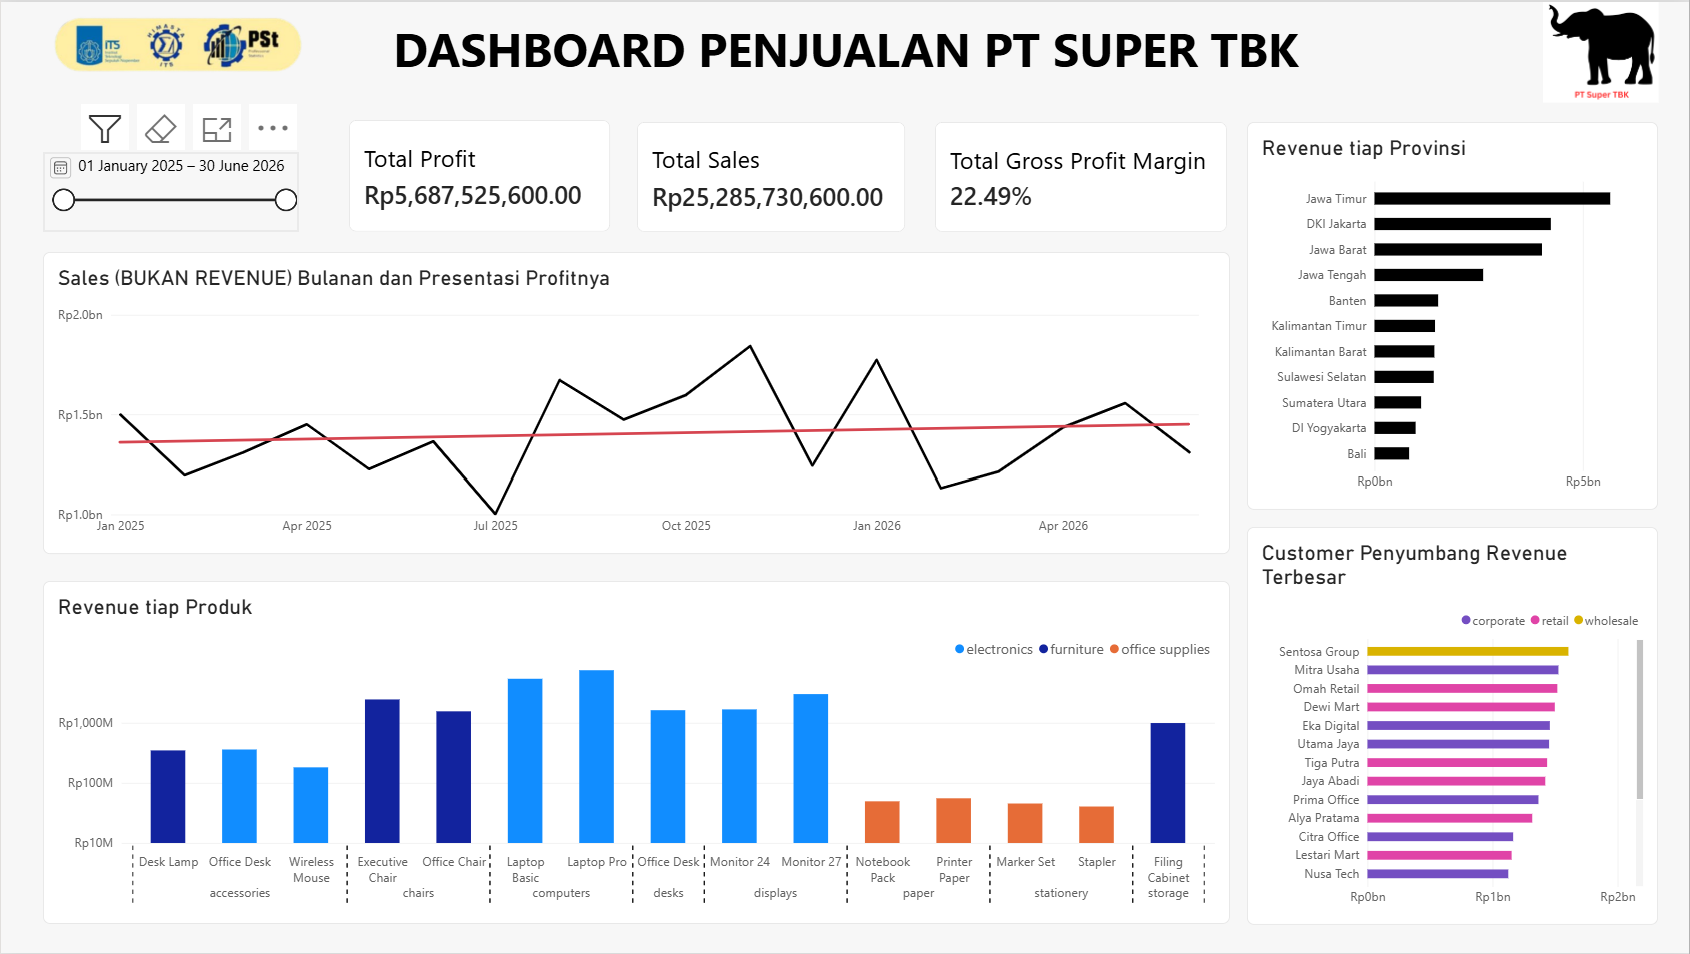

Layout of this report page (visuals, bound fields, positions):
{"tool":"powerbi","page":{"name":"Main Page","canvas":[1920,1080],"ordinal":0},"visuals":[{"type":"cardVisual","fields":{"Data":["sales_all.Profit Margin"]},"box":[1062.5,137.5,332.5,125],"z":0},{"type":"cardVisual","fields":{"Data":["sales_all.Total Sales"]},"box":[722.5,137.5,305,125],"z":1000},{"type":"lineChart","title":"Revenue Bulanan dan Presentasi Profitnya","fields":{"Category":["DateTable.Date.Variation.Date Hierarchy.Year","DateTable.Date.Variation.Date Hierarchy.Month"],"Y":["Sum(sales_all.Sales_Amount)"]},"box":[47.5,285,1350,342.5],"z":2000},{"type":"clusteredBarChart","title":"Revenue tiap Provinsi","fields":{"Category":["Customers_Raw.Provinsi"],"Y":["Sum(sales_all.Sales_Amount)"]},"box":[1417.5,137.5,467.5,440],"z":3000},{"type":"cardVisual","fields":{"Data":["sales_all.Total Profit"]},"box":[395,135,297.5,127.5],"z":4000},{"type":"slicer","fields":{"Values":["DateTable.Date"]},"box":[47.5,170,292.5,92.5],"z":5000},{"type":"columnChart","title":"Revenue tiap Produk","fields":{"Category":["products_raw.Subcategory","products_raw.Product_Name"],"Series":["products_raw.Category"],"Y":["Sum(sales_all.Sales_Amount)"]},"box":[47.5,655,1350,390],"z":6000},{"type":"textbox","box":[415,15,1094,84],"z":7000},{"type":"barChart","title":"Customer Penyumbang Revenue Terbesar","fields":{"Category":["Customers_Raw.Customer_Name"],"Series":["Customers_Raw.Segment"],"Y":["Sum(sales_all.Sales_Amount)"]},"box":[1417.5,595,467.5,452.5],"z":8000},{"type":"image","box":[1754.3,0,131.4,114.3],"z":9000},{"type":"image","box":[47.5,0,300,100],"z":10000}]}

Visuals, with their boxes in screenshot pixels (x1, y1, x2, y2), scaled from the page's 1920x1080 canvas onto the 1690x954 screenshot:
cardVisual - sales_all.Profit Margin: {"left": 935, "top": 121, "right": 1228, "bottom": 232}
cardVisual - sales_all.Total Sales: {"left": 636, "top": 121, "right": 904, "bottom": 232}
"Revenue Bulanan dan Presentasi Profitnya" lineChart: {"left": 42, "top": 252, "right": 1230, "bottom": 554}
"Revenue tiap Provinsi" clusteredBarChart: {"left": 1248, "top": 121, "right": 1659, "bottom": 510}
cardVisual - sales_all.Total Profit: {"left": 348, "top": 119, "right": 610, "bottom": 232}
slicer - DateTable.Date: {"left": 42, "top": 150, "right": 299, "bottom": 232}
"Revenue tiap Produk" columnChart: {"left": 42, "top": 579, "right": 1230, "bottom": 923}
textbox: {"left": 365, "top": 13, "right": 1328, "bottom": 87}
"Customer Penyumbang Revenue Terbesar" barChart: {"left": 1248, "top": 526, "right": 1659, "bottom": 925}
image: {"left": 1544, "top": 0, "right": 1660, "bottom": 101}
image: {"left": 42, "top": 0, "right": 306, "bottom": 88}
